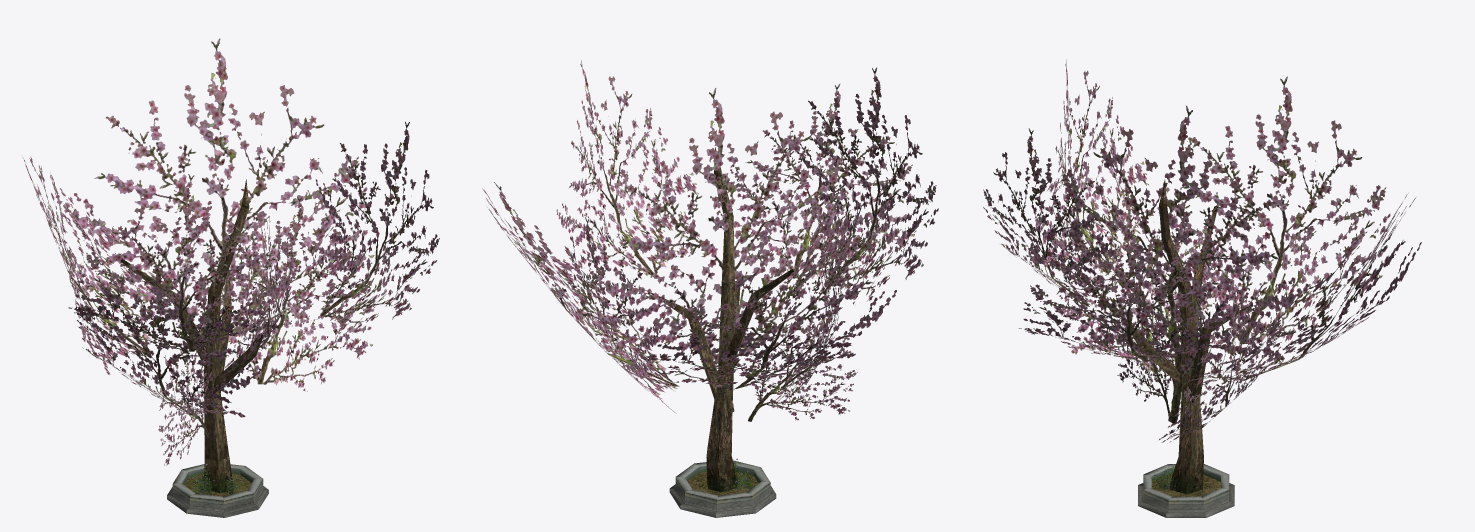
The model's file is tree3.obj.
The picture shows the model from 3 angles, left to right: view 1: azimuth 30°, elevation 25°; view 2: azimuth 150°, elevation 25°; view 3: azimuth 270°, elevation 25°; orthographic projection. The views are drawn at different scales.
Visible parts, largest first — view 1: 1d736a98.obj, 20b863f8.obj, 20c3f3b8.obj, 20c482d8.obj, 20cf4910.obj; view 2: 1d736a98.obj, 20b863f8.obj, 20c3f3b8.obj, 20c482d8.obj; view 3: 1d736a98.obj, 20b863f8.obj, 20c3f3b8.obj, 20c482d8.obj.
Part boxes in pixels (left/top/right/bottom): 1d736a98.obj: left=22, top=38, right=439, bottom=465; 20b863f8.obj: left=120, top=179, right=263, bottom=493; 20c3f3b8.obj: left=167, top=464, right=268, bottom=517; 20c482d8.obj: left=184, top=474, right=251, bottom=496; 20cf4910.obj: left=190, top=464, right=243, bottom=494; 1d736a98.obj: left=482, top=60, right=938, bottom=421; 20b863f8.obj: left=645, top=147, right=793, bottom=492; 20c3f3b8.obj: left=669, top=460, right=776, bottom=517; 20c482d8.obj: left=687, top=472, right=758, bottom=495; 1d736a98.obj: left=983, top=59, right=1421, bottom=442; 20b863f8.obj: left=1126, top=179, right=1252, bottom=494; 20c3f3b8.obj: left=1138, top=464, right=1234, bottom=517; 20c482d8.obj: left=1151, top=474, right=1220, bottom=496.
Size of the model in its own units: 18.65 by 20.03 by 20.29.
5 materials, 5 textured.
